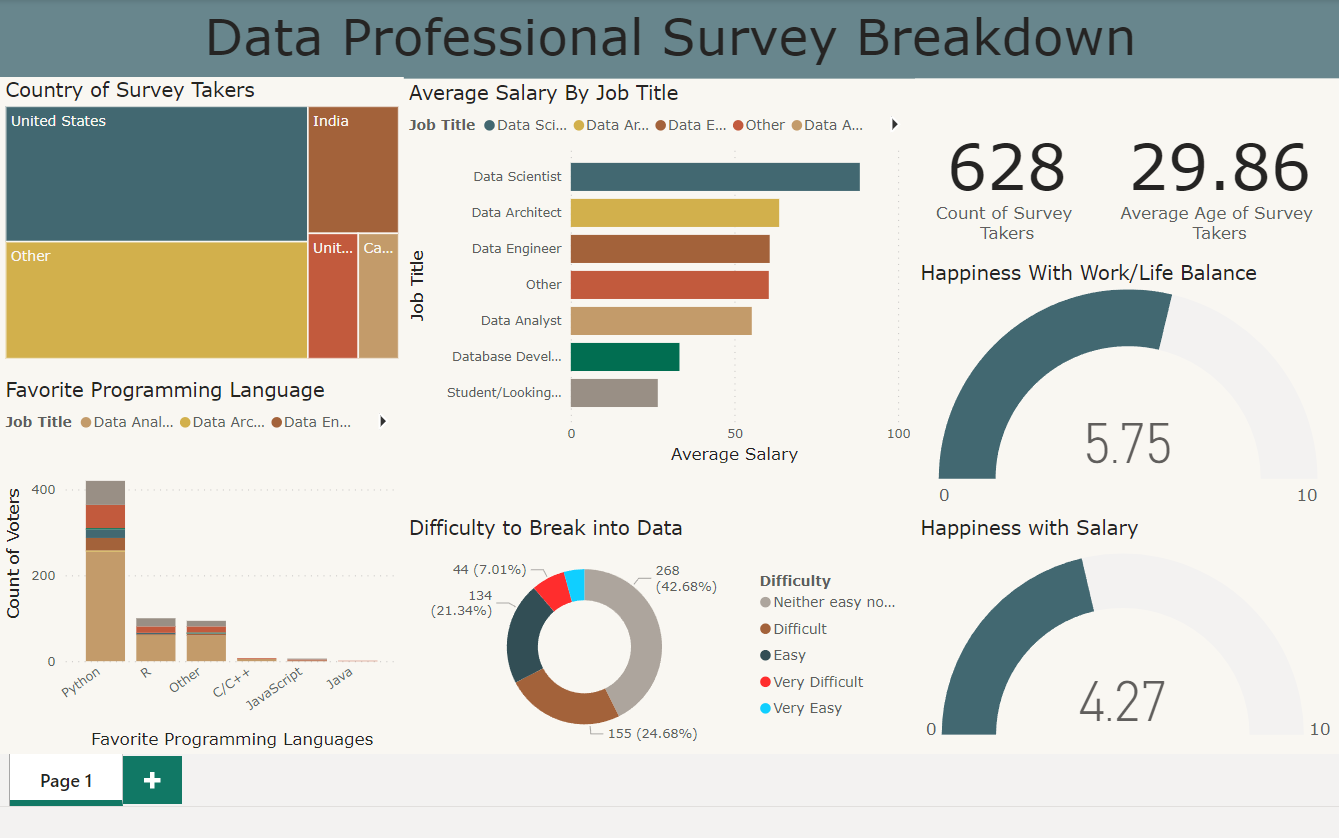

The dashboard page shown, as its layout file describes it:
{"tool":"powerbi","page":{"name":"Page 1","canvas":[1280,720],"ordinal":0},"visuals":[{"type":"textbox","box":[0,0,1279.8,76],"z":0},{"type":"card","fields":{"Values":["CountNonNull(Data Professional Survey.Unique ID)"]},"box":[873.7,76,174.7,179.6],"z":1000},{"type":"card","fields":{"Values":["Avg(Data Professional Survey.Q10 - Current Age)"]},"box":[1048.4,76,231.4,179.6],"z":2000},{"type":"barChart","title":"Average Salary By Job Title","fields":{"Category":["Data Professional Survey.Q1 - Which Title Best Fits your Current Role?.1"],"Y":["Avg(Data Professional Survey.Average Salary)"],"Series":["Data Professional Survey.Q1 - Which Title Best Fits your Current Role?.1"]},"box":[385.1,77.7,488.6,370.5],"z":3000},{"type":"columnChart","title":"Favorite Programming Language","fields":{"Category":["Data Professional Survey.Q5 - Favorite Programming Language.1"],"Y":["CountNonNull(Data Professional Survey.Unique ID)"],"Series":["Data Professional Survey.Q1 - Which Title Best Fits your Current Role?.1"]},"box":[0,360.8,385.1,359.2],"z":4000},{"type":"treemap","title":"Country of Survey Takers","fields":{"Group":["Data Professional Survey.Q11 - Which Country do you live in?.1"],"Values":["CountNonNull(Data Professional Survey.Q11 - Which Country do you live in?.1)"]},"box":[0,74.4,385.1,273.4],"z":5000},{"type":"gauge","title":"Happiness With Work/Life Balance","fields":{"Y":["Avg(Data Professional Survey.Q6 - How Happy are you in your Current Position with the following? (Work/Life Balance))"],"MinValue":["Min(Data Professional Survey.Q6 - How Happy are you in your Current Position with the following? (Work/Life Balance))1"],"MaxValue":["Max(Data Professional Survey.Q6 - How Happy are you in your Current Position with the following? (Work/Life Balance))2"]},"box":[873.7,249.2,406.1,242.7],"z":6000},{"type":"gauge","title":"Happiness with Salary","fields":{"Y":["Avg(Data Professional Survey.Q6 - How Happy are you in your Current Position with the following? (Salary))"],"MinValue":["Min(Data Professional Survey.Q6 - How Happy are you in your Current Position with the following? (Salary))"],"MaxValue":["Max(Data Professional Survey.Q6 - How Happy are you in your Current Position with the following? (Salary))"]},"box":[873.7,491.9,406.1,228.1],"z":6001},{"type":"donutChart","title":"Difficulty to Break into Data","fields":{"Category":["Data Professional Survey.Q7 - How difficult was it for you to break into Data?"],"Y":["CountNonNull(Data Professional Survey.Q7 - How difficult was it for you to break into Data?)"]},"box":[385.1,491.9,488.6,228.1],"z":6002}]}

Visuals, with their boxes in screenshot pixels (x1, y1, x2, y2):
textbox: <region>3, 0, 1338, 78</region>
card - CountNonNull(Data Professional Survey.Unique ID): <region>938, 78, 1125, 270</region>
card - Avg(Data Professional Survey.Q10 - Current Age): <region>1125, 78, 1338, 270</region>
"Average Salary By Job Title" barChart: <region>415, 80, 938, 476</region>
"Favorite Programming Language" columnChart: <region>3, 382, 415, 767</region>
"Country of Survey Takers" treemap: <region>3, 76, 415, 368</region>
"Happiness With Work/Life Balance" gauge: <region>938, 263, 1338, 523</region>
"Happiness with Salary" gauge: <region>938, 523, 1338, 767</region>
"Difficulty to Break into Data" donutChart: <region>415, 523, 938, 767</region>
